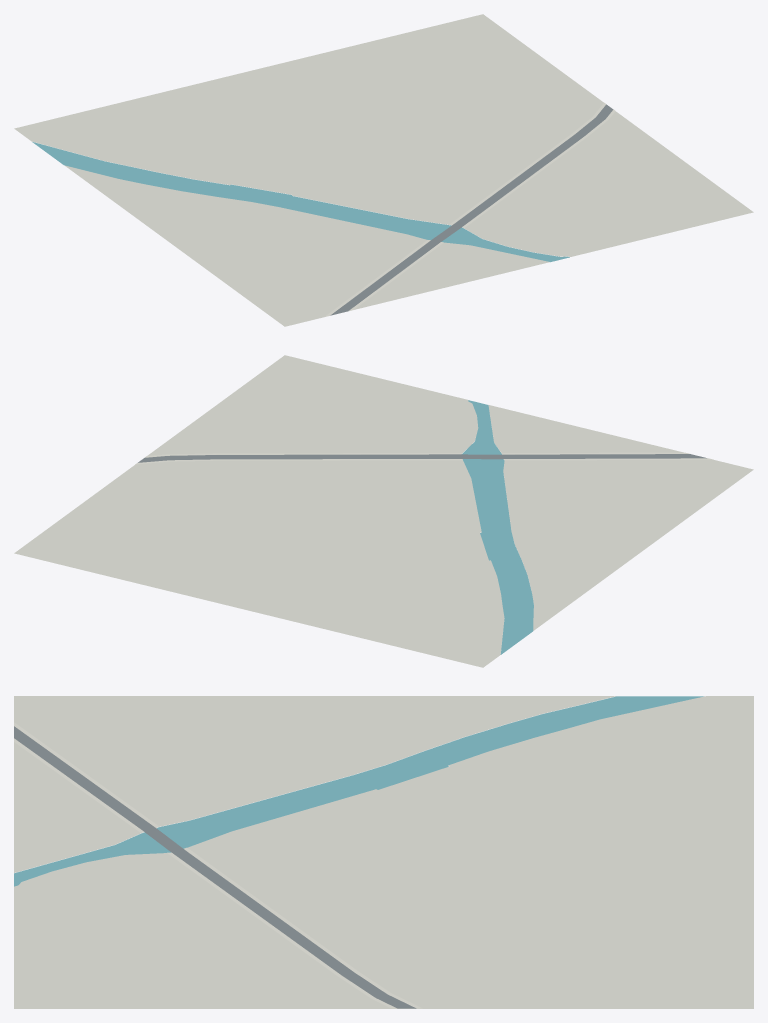
3 renders of one model, top to bottom at view 1: azimuth 30°, elevation 25°; view 2: azimuth 150°, elevation 25°; view 3: azimuth 270°, elevation 25°, orthographic. The views are drawn at different scales.
Parts seen in each view (by area): view 1: city; view 2: city; view 3: city.
Boxes of the visible parts, box(x1,y1,x2,y2) form: city: box(14, 14, 753, 326); city: box(14, 355, 753, 667); city: box(14, 696, 753, 1008).
Size of the model in its own units: 500 by 0.4 by 500.
